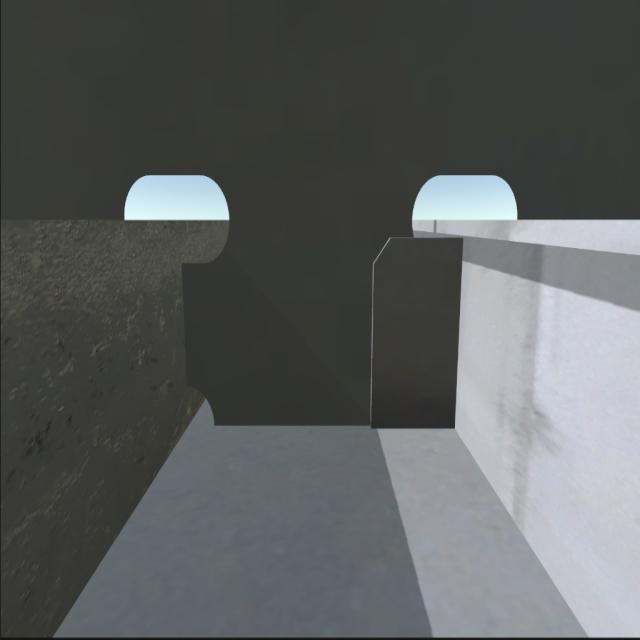fillet_hole: (179, 376, 219, 431)
fillet_yong_jeop_jang: (210, 416, 458, 438)
longi_yong_jeop_jang: (450, 236, 464, 436), (176, 258, 197, 389)
plate_CP03: (367, 224, 465, 437)
